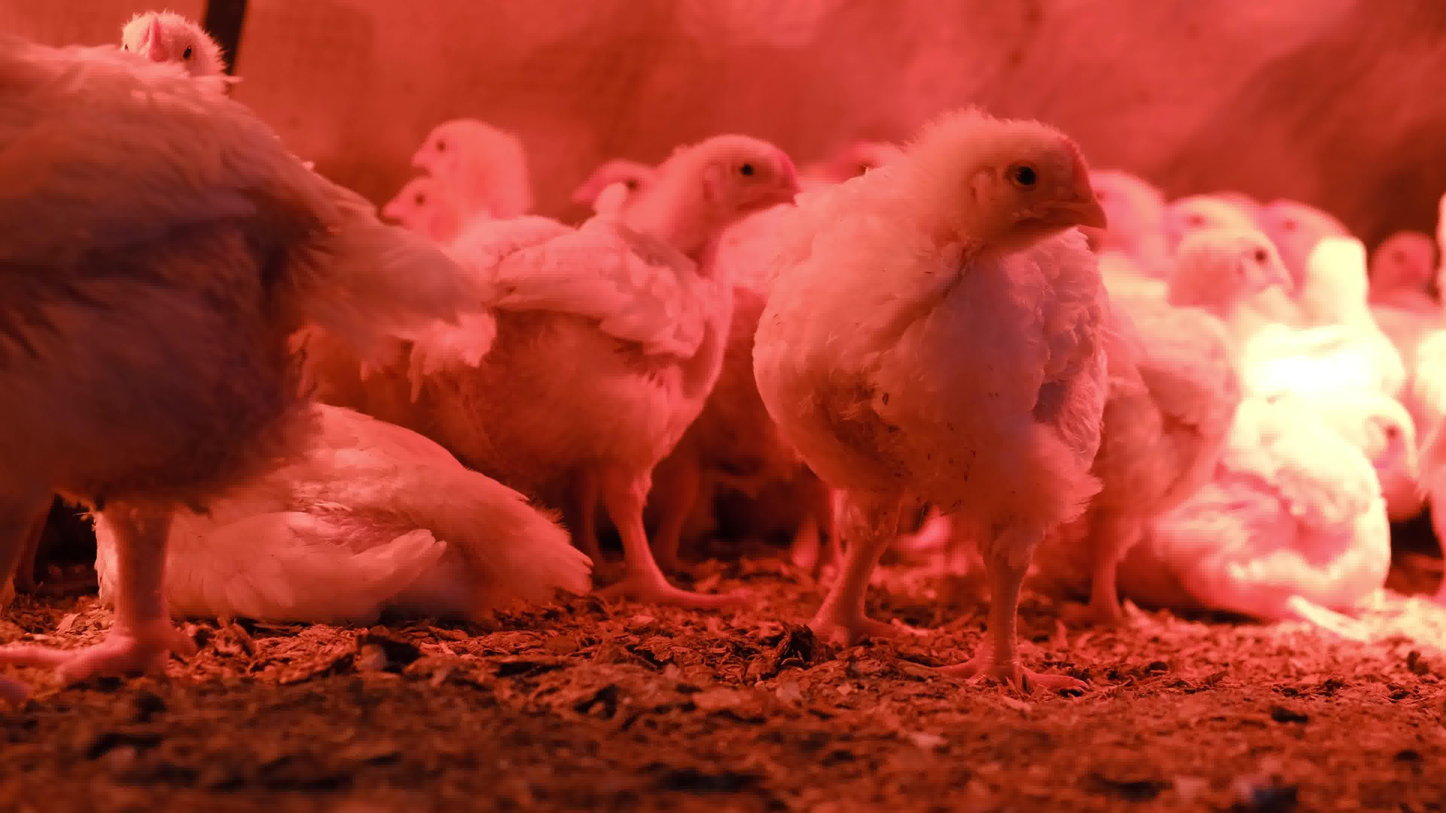AbNormal: (97, 401, 593, 625), (1150, 381, 1416, 623)
Normal: (2, 29, 498, 676), (753, 110, 1119, 687), (417, 128, 810, 605), (1030, 222, 1298, 635), (411, 112, 533, 256), (114, 10, 234, 101), (371, 170, 457, 252), (484, 238, 484, 262)
